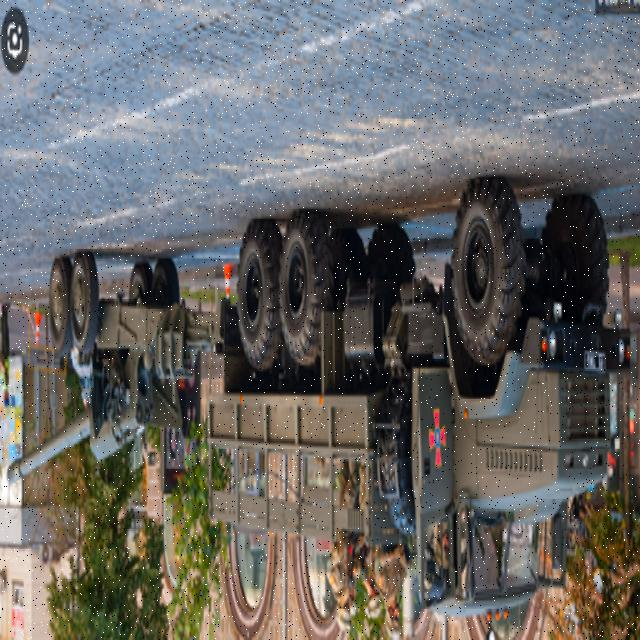ART: (5, 252, 195, 488)
TRUCK: (207, 174, 634, 626)
